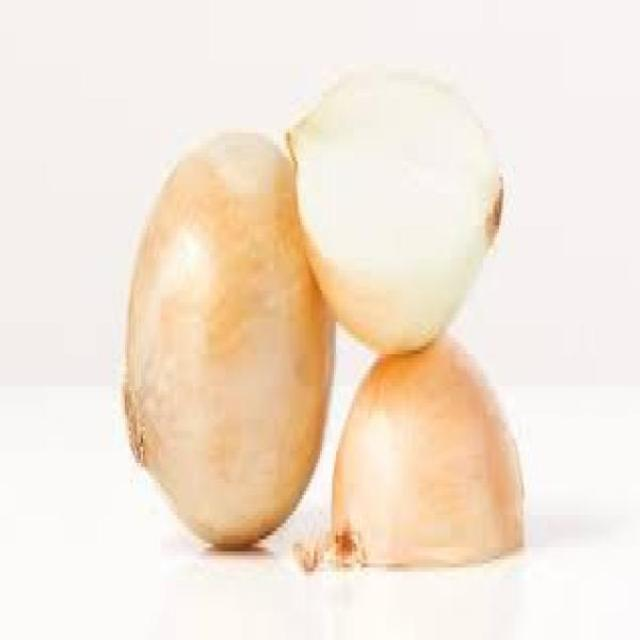Onion: (121, 128, 336, 551), (268, 65, 516, 364), (321, 336, 527, 571)
